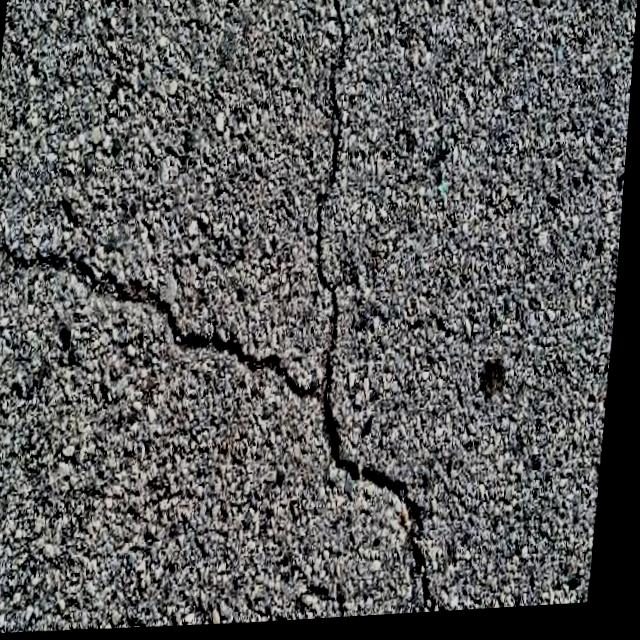Clogged Drains: (331, 409, 428, 519), (170, 316, 289, 378), (57, 260, 173, 319), (63, 313, 84, 364), (289, 381, 325, 402), (118, 339, 136, 356)
